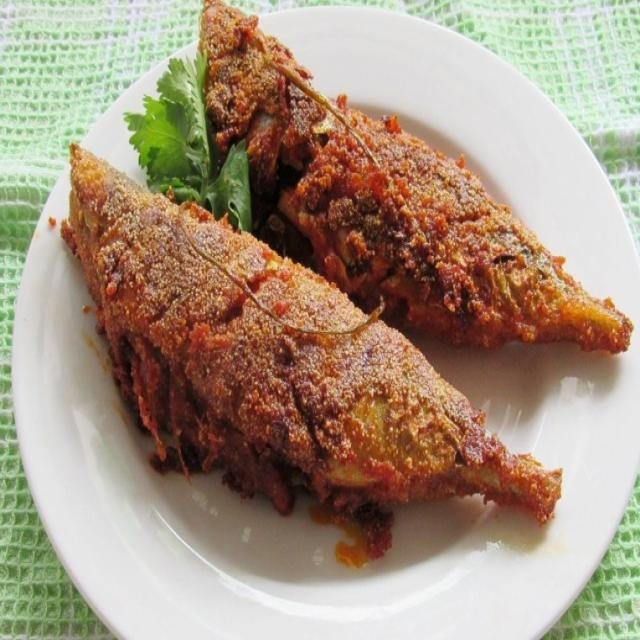FISH FRY: (64, 0, 632, 553)
